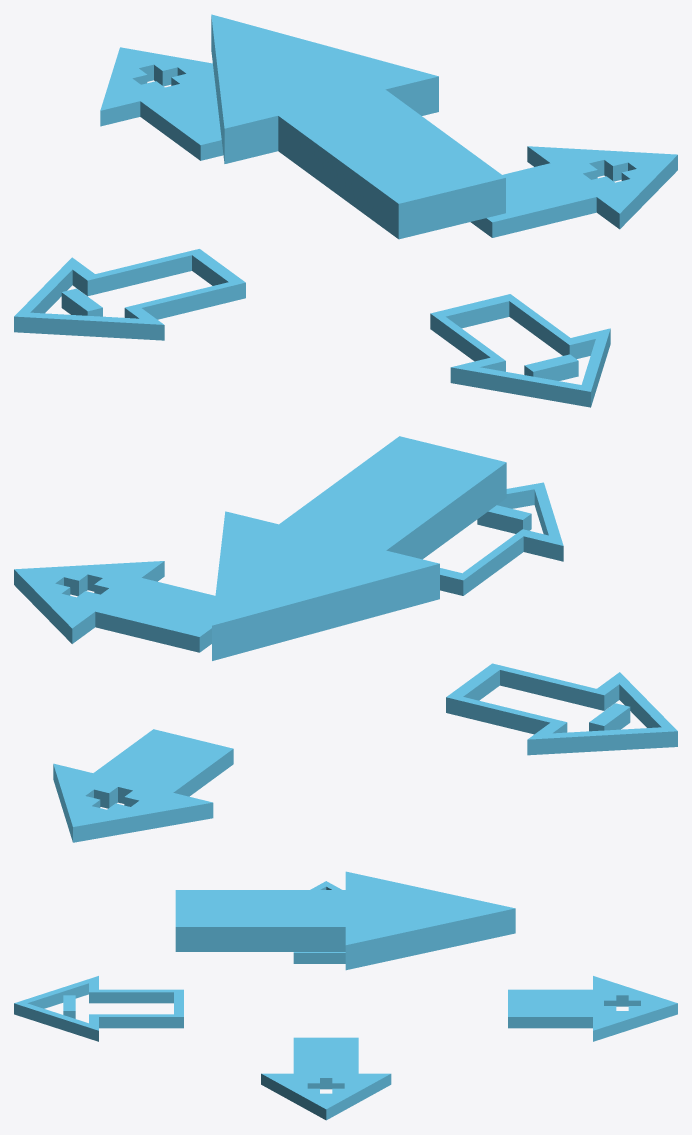
The model's file is epe_drone_propeller_arrow.dae.
3 renders of one model, top to bottom at view 1: azimuth 30°, elevation 25°; view 2: azimuth 150°, elevation 25°; view 3: azimuth 270°, elevation 25°, orthographic. The views are drawn at different scales.
Parts seen in each view (by area): view 1: drone_propeller_arrow; view 2: drone_propeller_arrow; view 3: drone_propeller_arrow.
Boxes of the visible parts, box(x1,y1,x2,y2) form: drone_propeller_arrow: box(14, 14, 677, 407); drone_propeller_arrow: box(14, 436, 677, 842); drone_propeller_arrow: box(14, 871, 677, 1120).
Bounding box in the file's own units: 0.8758 × 1.08 × 0.1748.
